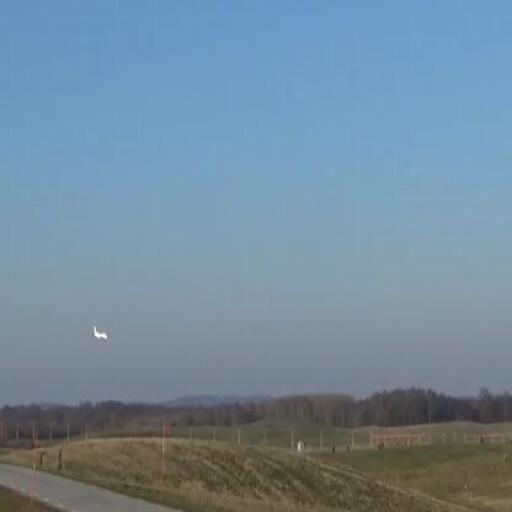aircraft: (94, 326, 110, 344)
